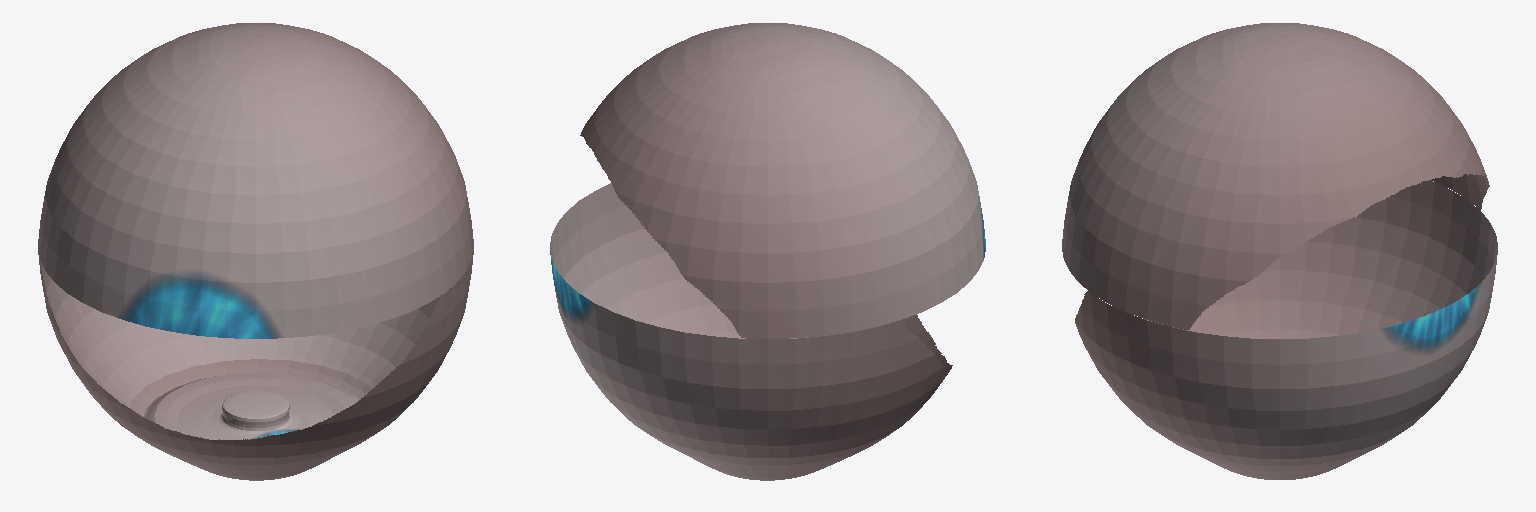
The picture shows the model from 3 angles: view 1: azimuth 30°, elevation 25°; view 2: azimuth 150°, elevation 25°; view 3: azimuth 270°, elevation 25°; orthographic projection.
Visible parts, largest first — view 1: low_meshId0_name; view 2: low_meshId0_name; view 3: low_meshId0_name.
Part boxes in pixels (left/top/right/bottom): low_meshId0_name: left=38, top=23, right=473, bottom=480; low_meshId0_name: left=550, top=23, right=985, bottom=480; low_meshId0_name: left=1062, top=23, right=1497, bottom=479.
Size of the model in its own units: 0.2411 by 0.26 by 0.2411.
Materials: 1 (1 with a texture image).